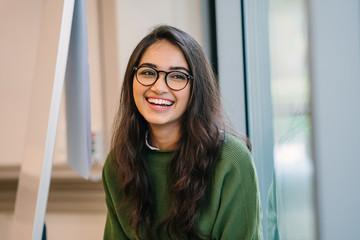Human: (100, 31, 256, 234)
